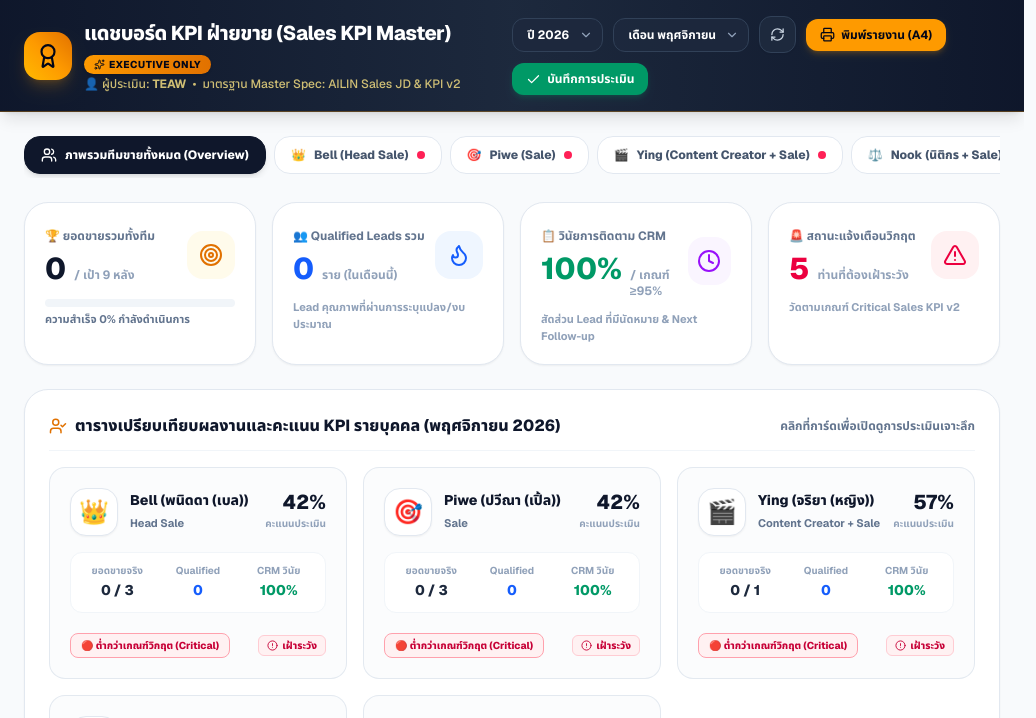
Test: SalesKpiMasterDashboard › allows clicking an individual staff tab and displays the 4 KPI sections
// Click Bell tab
Step 1. Click the button "👑 Bell (Head Sale)" → (358, 155), box [274,136,442,174]
(page scrolled)
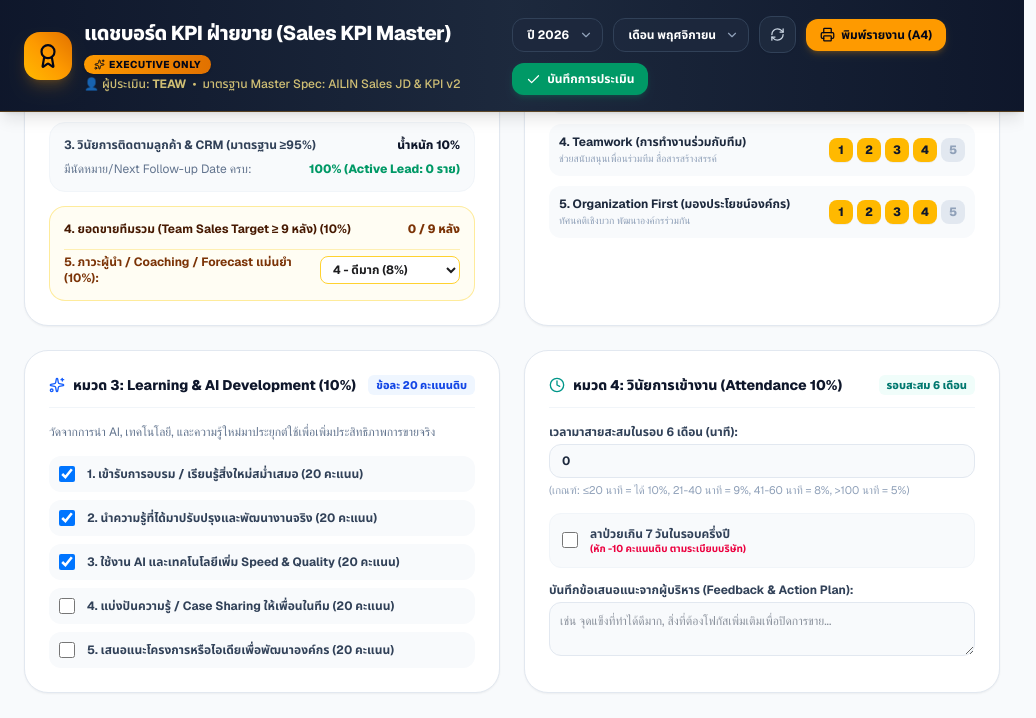
Check: the heading "หมวด 3: Learning & AI Development (10%)" is shown, box [49,375,356,395]
Check: the heading "หมวด 4: วินัยการเข้างาน (Attendance 10%)" is shown, box [549,375,842,395]
